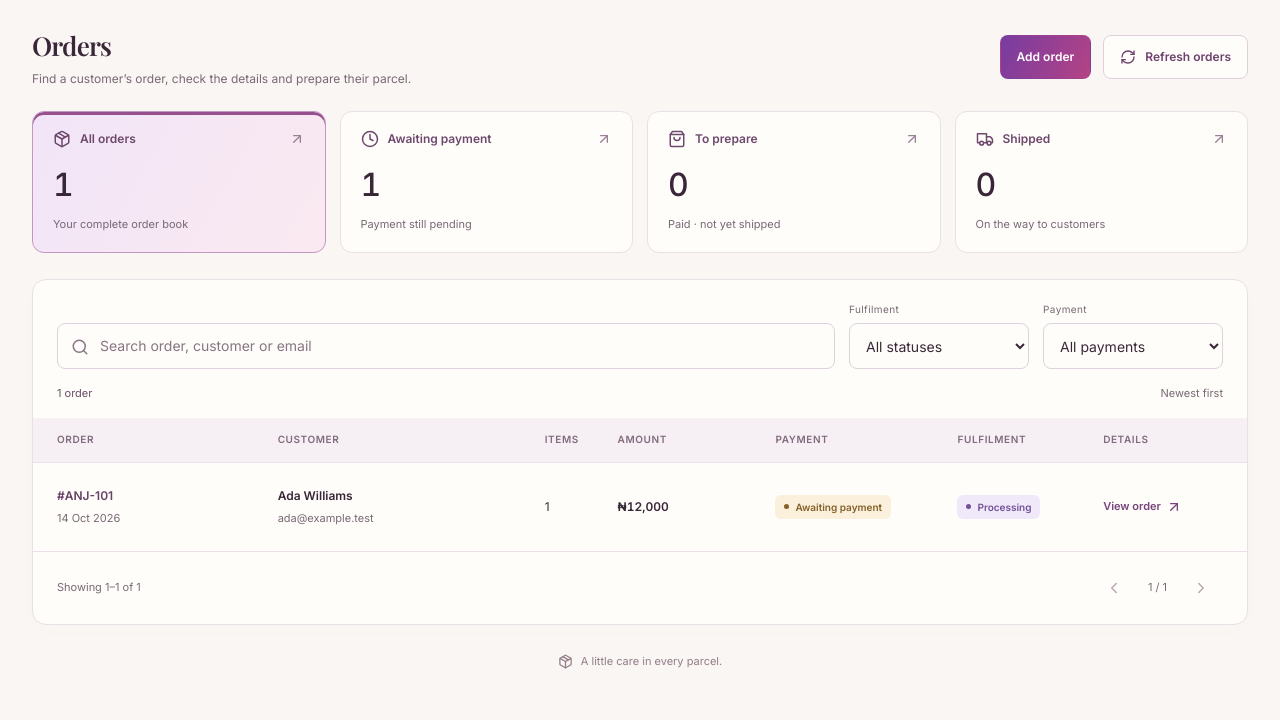
Test: fulfilment is blocked for unpaid or review-required orders ({"paymentStatus":"pending"})
(page scrolled)
Click the button with aria-label "View order ANJ-101".
click(1142, 507)  # box [1103,485,1182,529]
(page scrolled)
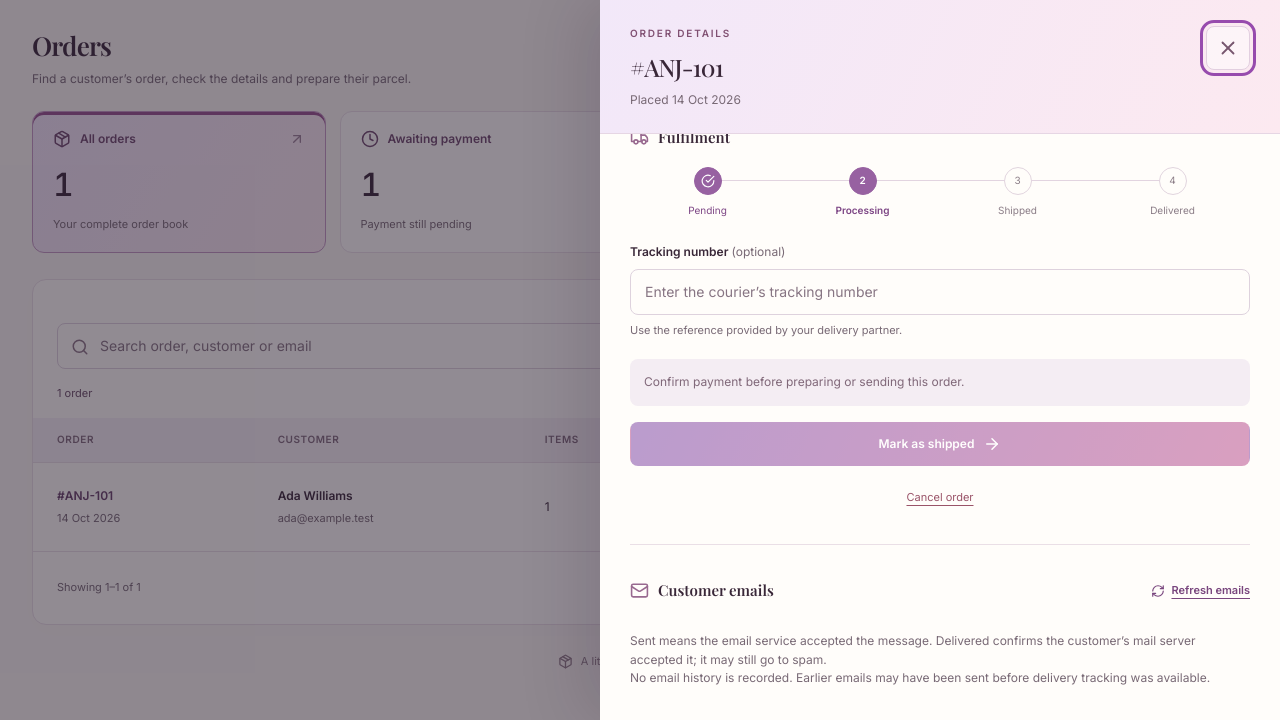
Expected: the button "Mark as shipped" is disabled, [630,422,1250,466]
Expected: the button "Cancel order" is enabled, [906,476,974,520]
